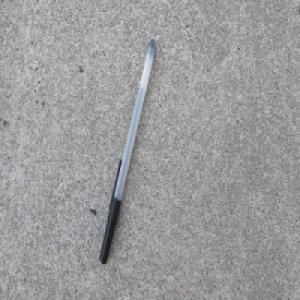Pen: (98, 37, 158, 266)
